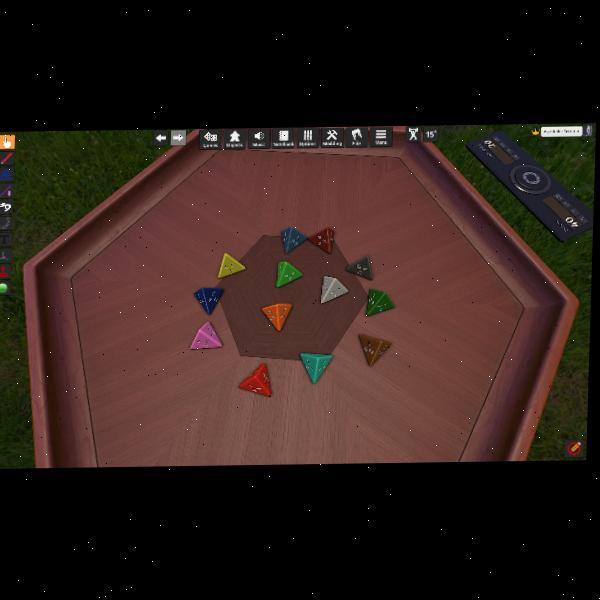d4: (239, 363, 273, 397), (358, 334, 391, 367), (299, 351, 331, 383), (191, 321, 223, 349), (193, 287, 223, 315), (261, 303, 290, 331), (320, 275, 348, 303), (367, 289, 395, 316), (218, 251, 246, 278), (345, 253, 373, 280), (307, 226, 334, 254), (275, 261, 302, 288), (282, 226, 308, 253)
